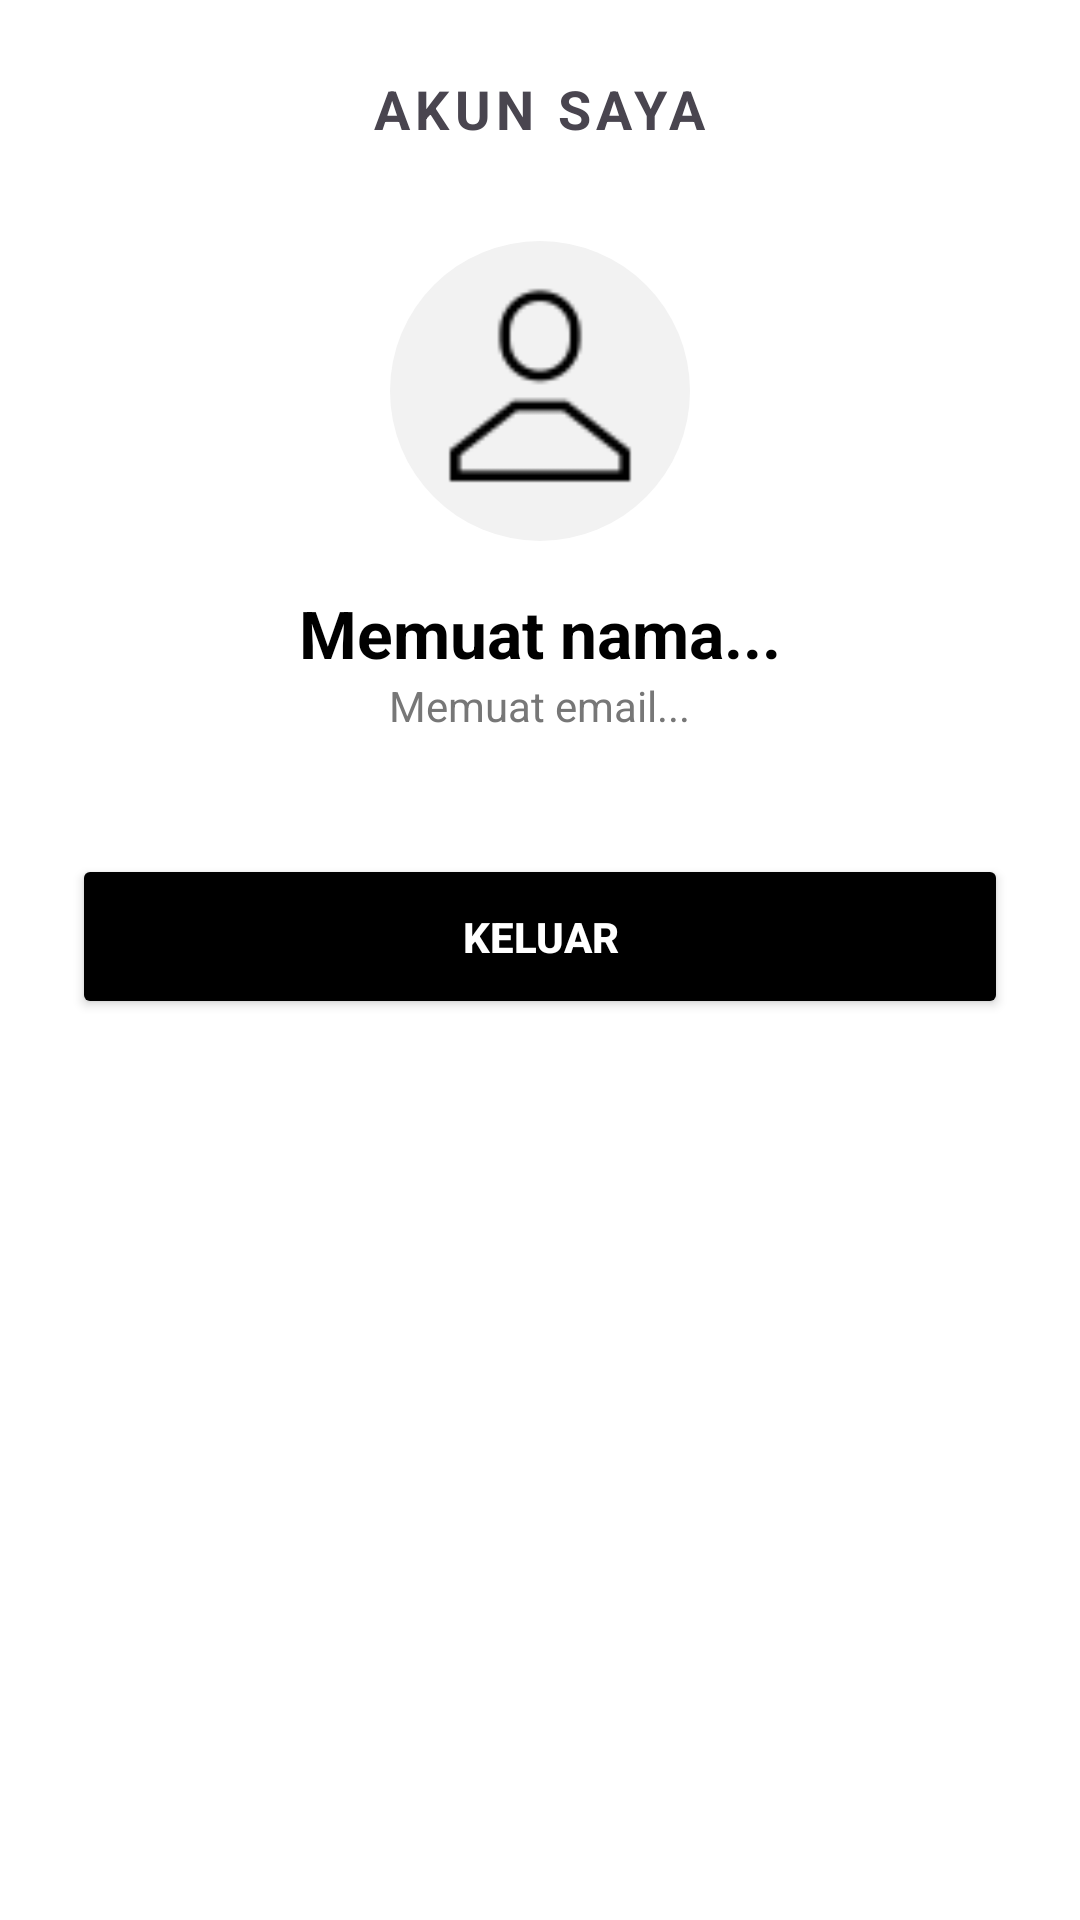

Icon bounding boxes for this 1080px×1920px phone screenshot, format (x1, y1, x2, y2):
person: (390, 241, 690, 541)
